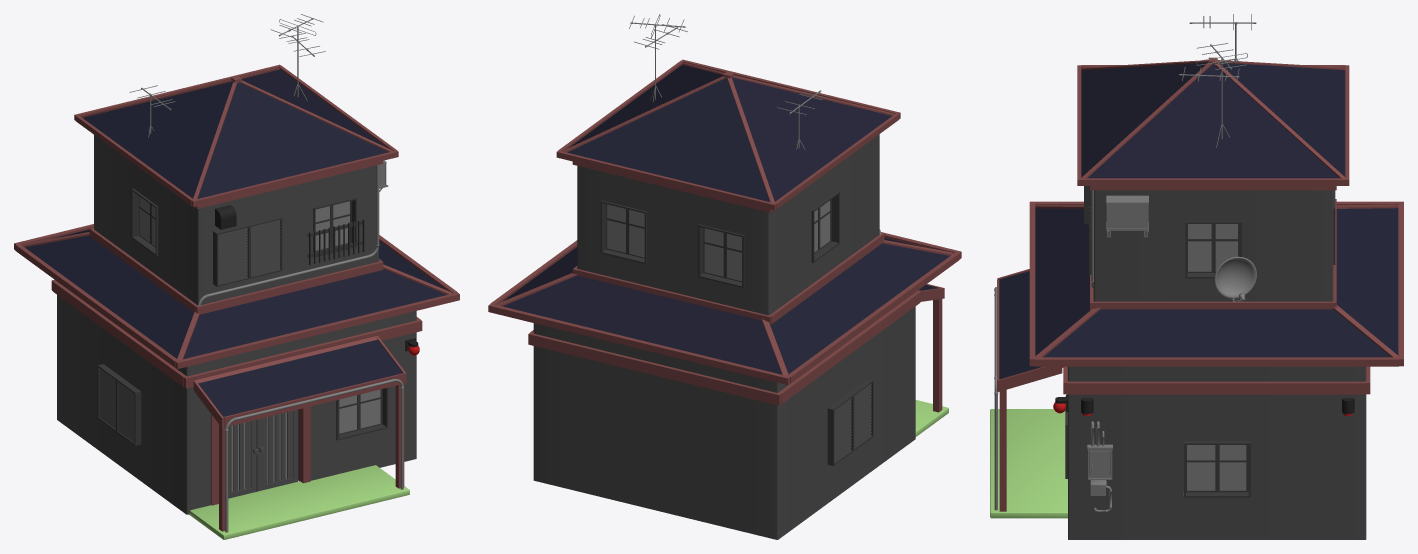
Rendered from SM_building_residental_suburbs_03.fbx.
3 views of the same model, side by side, from view 1: azimuth 30°, elevation 25°; view 2: azimuth 150°, elevation 25°; view 3: azimuth 270°, elevation 25° (orthographic). The views are drawn at different scales.
Visible parts, largest first — view 1: Object1284745; view 2: Object1284745; view 3: Object1284745.
Boxes of the visible parts, x1=… form: Object1284745: x1=14, y1=14, x2=459, y2=539; Object1284745: x1=488, y1=14, x2=961, y2=539; Object1284745: x1=990, y1=14, x2=1403, y2=539.
Size of the model in its own units: 278 by 374 by 308.
